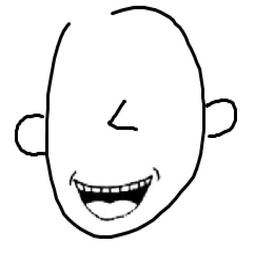ear: (4, 107, 53, 163), (188, 92, 245, 139)
open_mouth: (71, 171, 159, 228)
pointy_nose: (103, 86, 146, 139)
